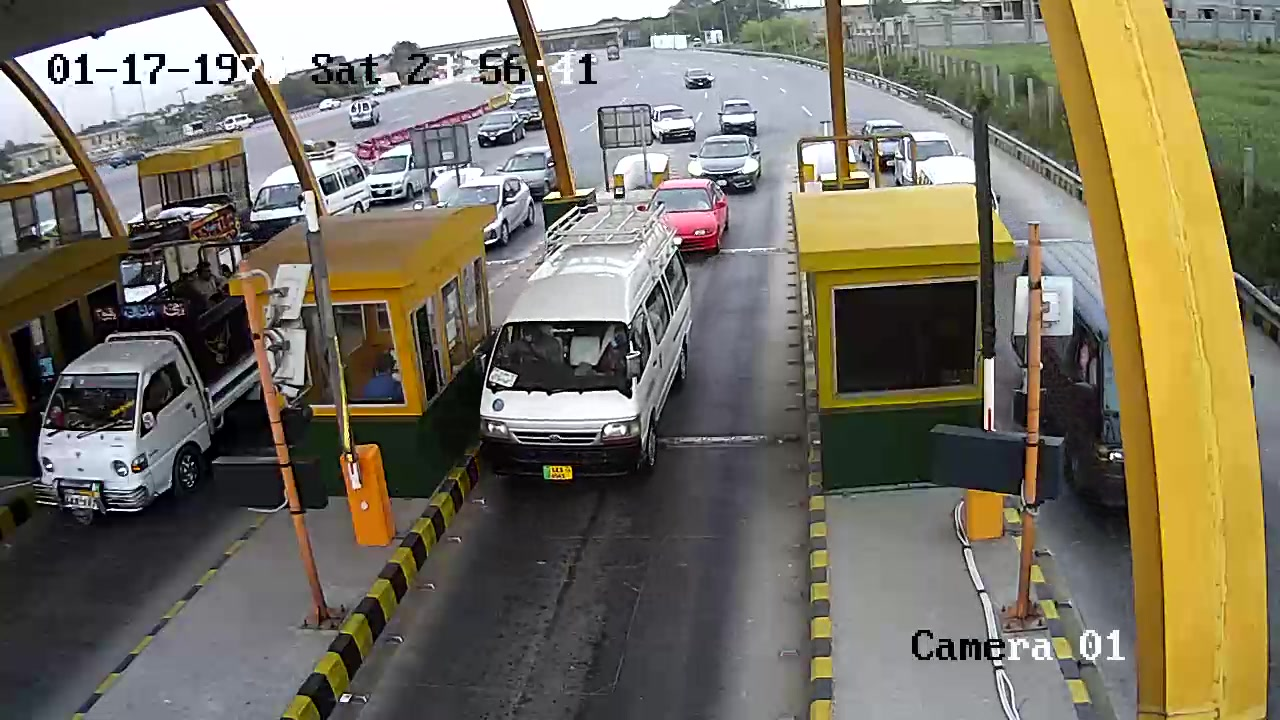F3: (467, 194, 696, 503)
